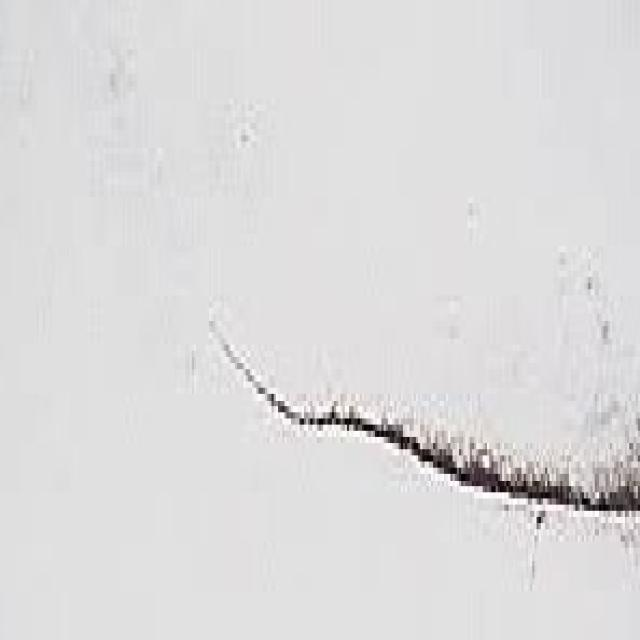Rupture: (198, 277, 640, 621)
